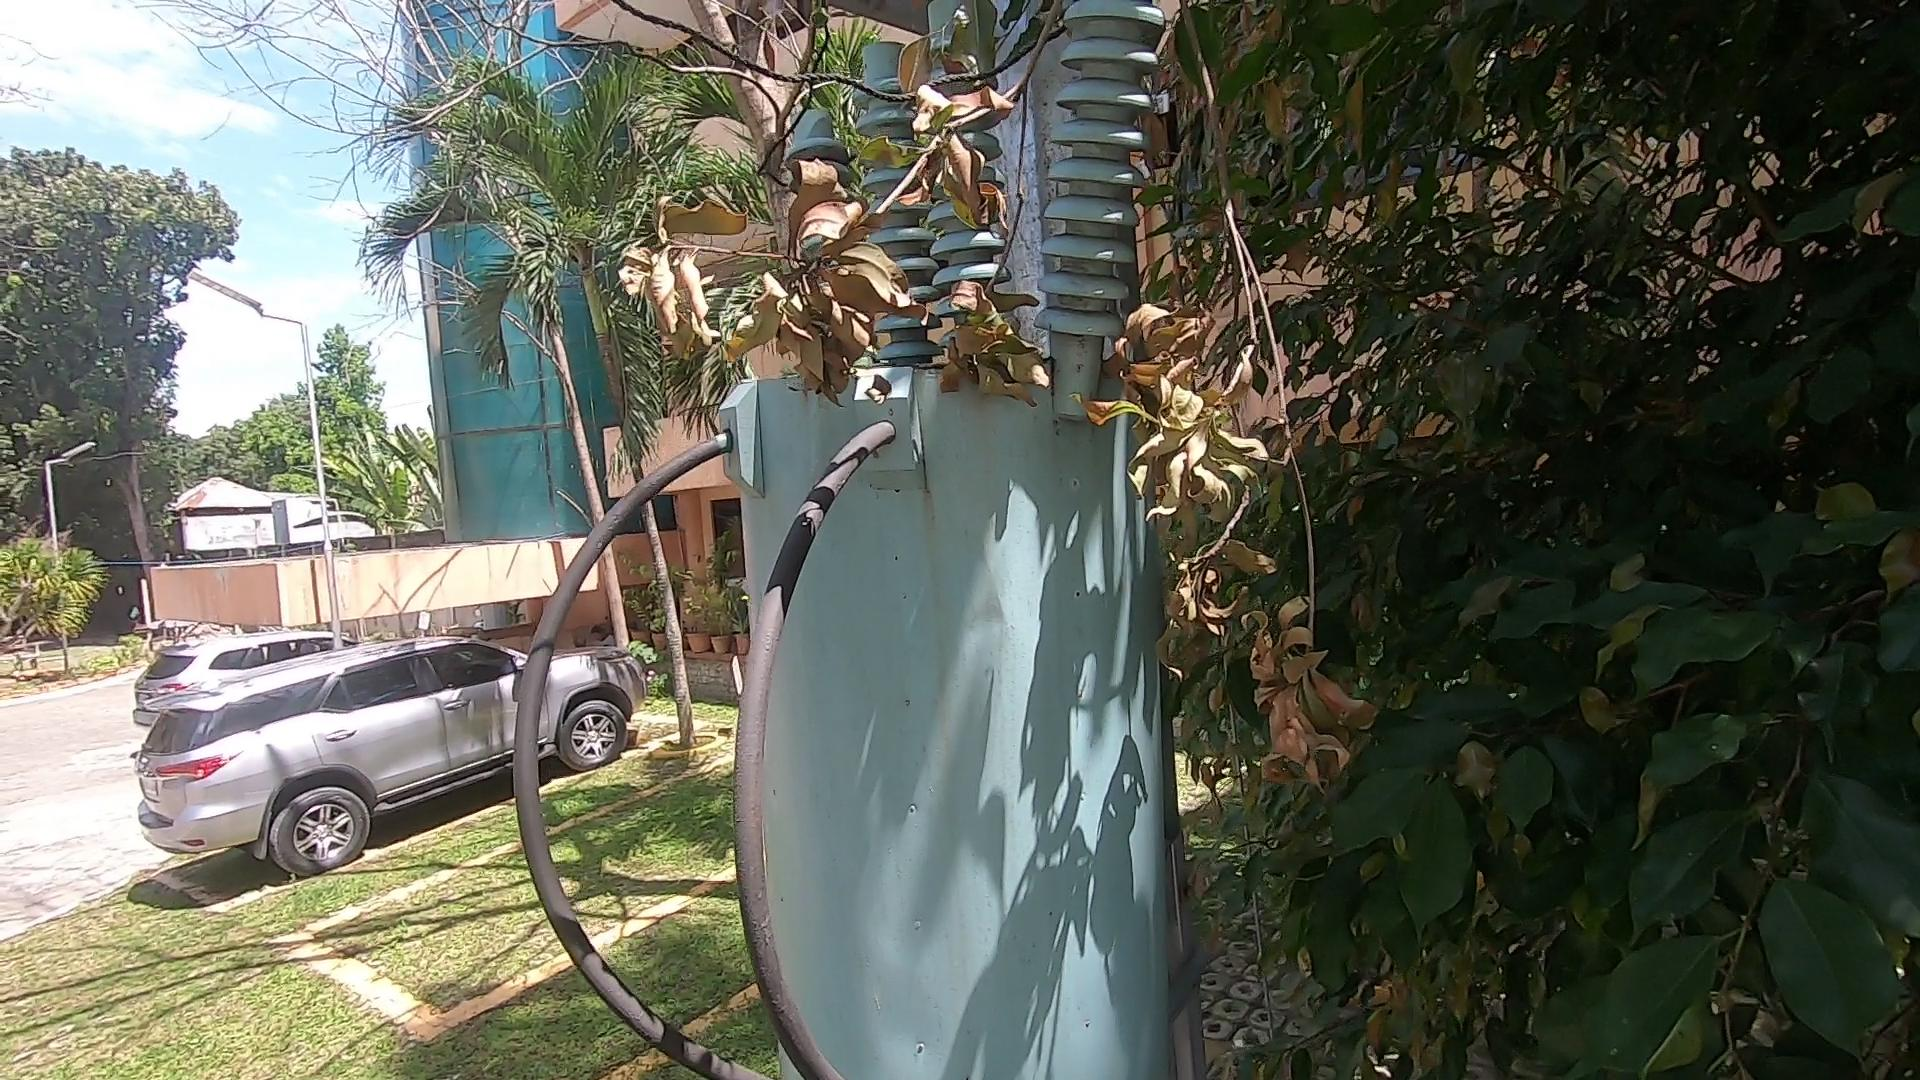branch with leaves: (578, 8, 1077, 462), (1120, 1, 1377, 825)
